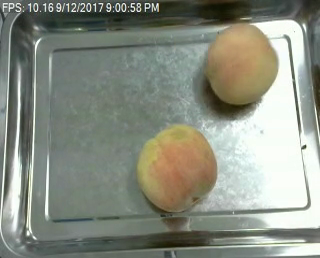Peach: (136, 123, 217, 212), (205, 21, 279, 105)
